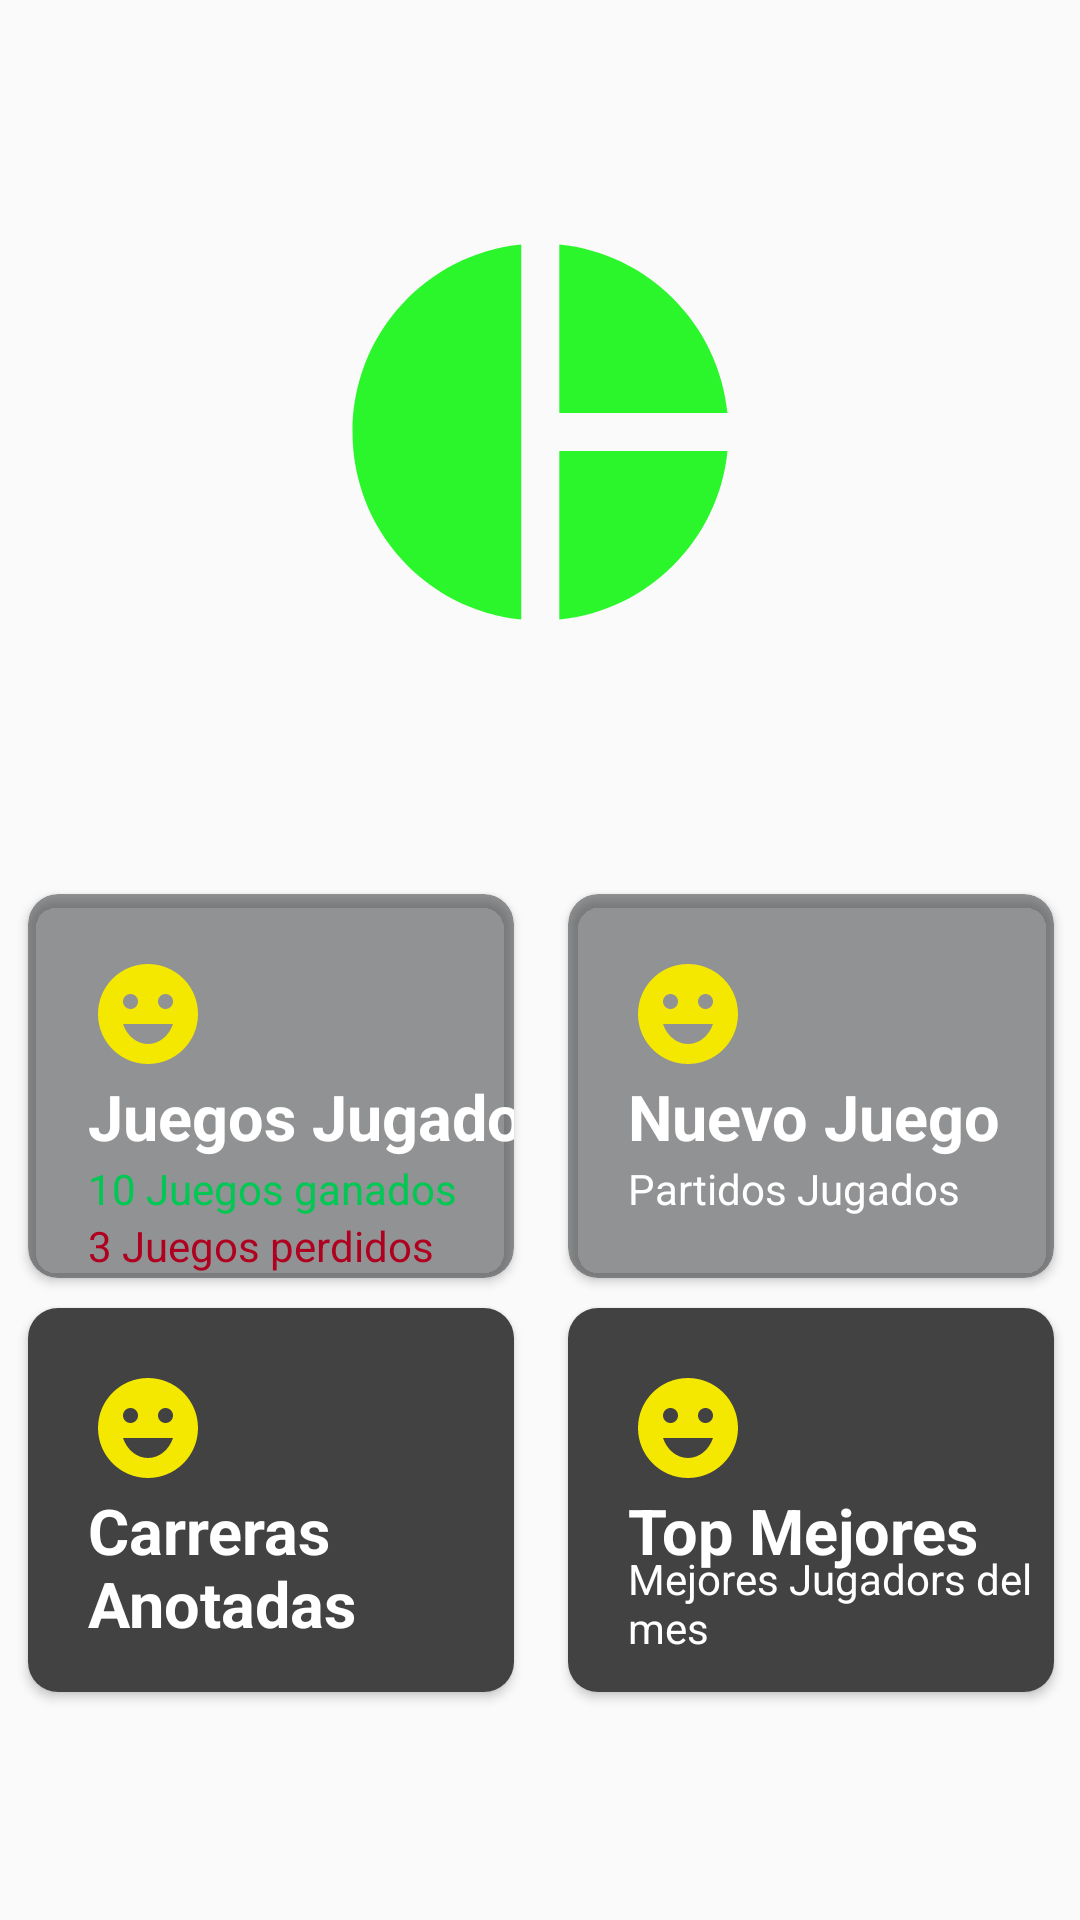

Icons on this 1080×1920 Android screen, each with the point to tap as (x=x, y=y):
emoji emotions: (x=148, y=1014), (x=688, y=1014), (x=148, y=1428), (x=688, y=1428)
